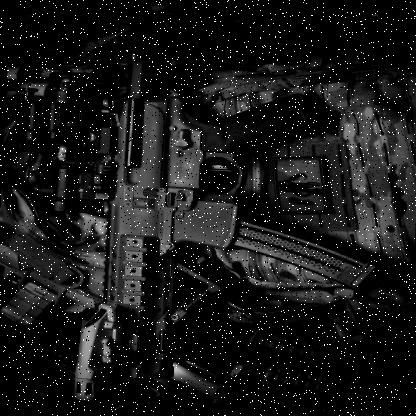rifle: (42, 10, 407, 416)
